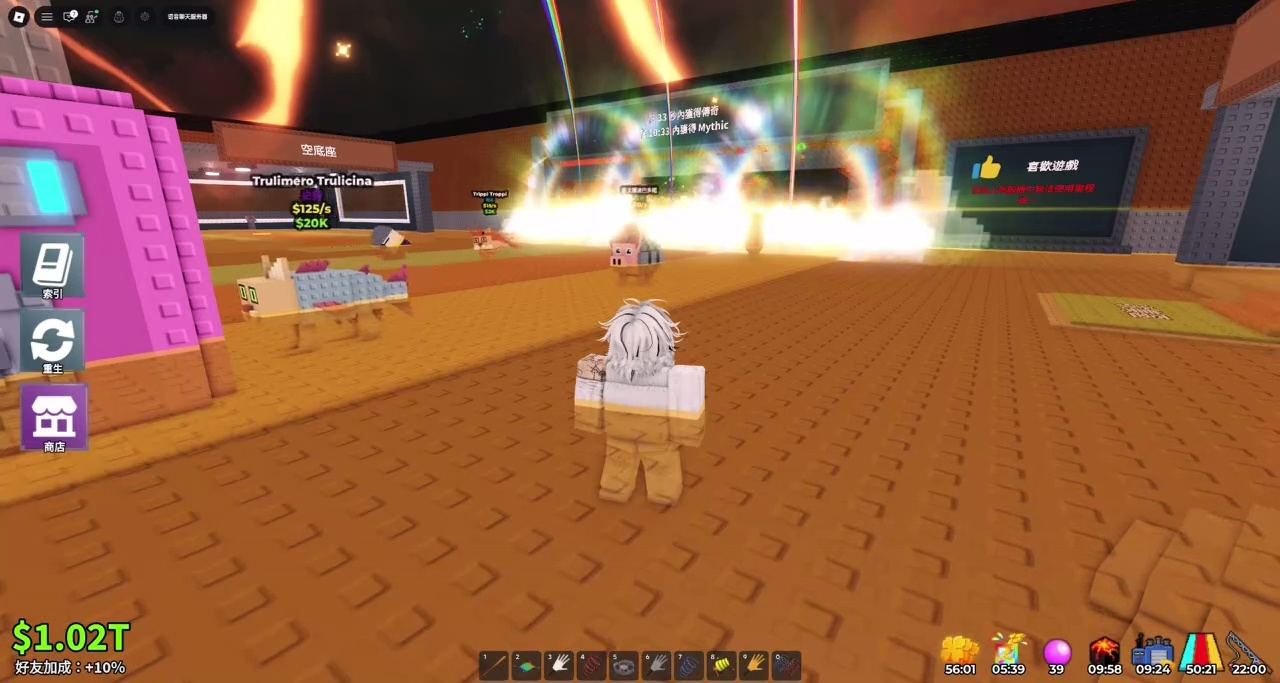price_tag: (402, 194, 438, 221)
